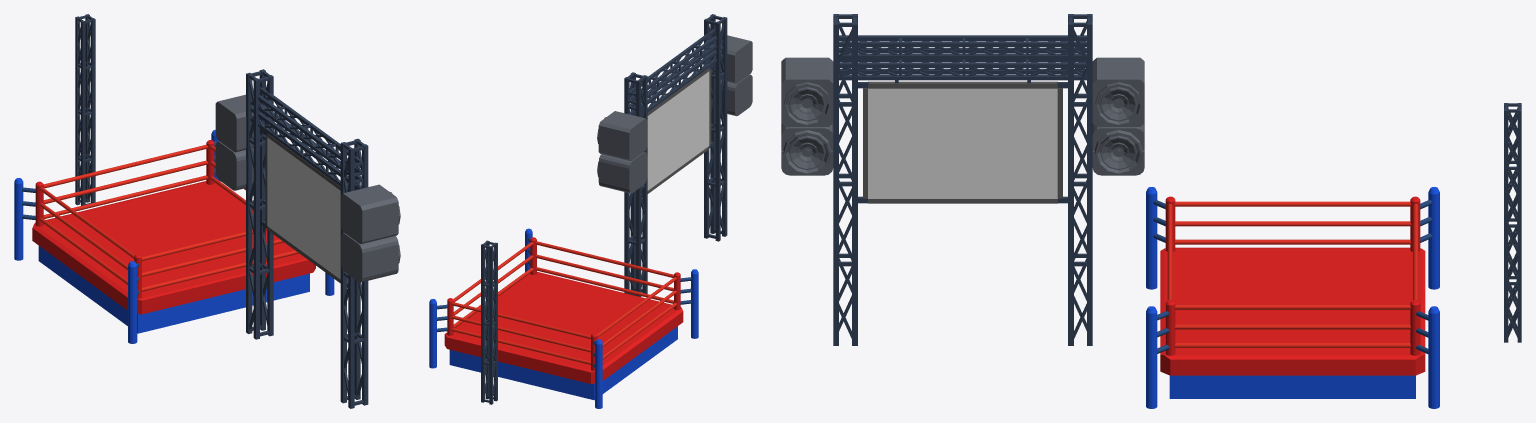
The model's file is arena2 and screen.fbx.
The picture shows the model from 3 angles, left to right: view 1: azimuth 30°, elevation 25°; view 2: azimuth 150°, elevation 25°; view 3: azimuth 270°, elevation 25°; orthographic projection. The views are drawn at different scales.
Parts seen in each view (by area): view 1: Cube, Cube.007, microphone, tv screen, Cylinder.008, Cube.001, Cube.012, Cube.009, Cylinder, Cube.010, border, Cylinder.001; view 2: Cube, Cube.007, microphone, Cylinder.008, tv screen, Cube.001, Cube.012, Cylinder, Cube.009, Cube.010, Cylinder.001, border (+1 smaller); view 3: Cube, tv screen, Cube.007, microphone, Cylinder.008, Cube.001, Cube.009, Cube.010, Cylinder, Cube.012, border, Cylinder.001 (+1 smaller).
Part boxes in pixels (<box>): Cube: <box>32,181,315,314</box>; Cube.007: <box>246,69,368,408</box>; microphone: <box>215,94,400,282</box>; tv screen: <box>267,137,340,279</box>; Cylinder.008: <box>39,144,298,291</box>; Cube.001: <box>38,246,309,333</box>; Cube.012: <box>75,14,95,205</box>; Cube.009: <box>250,87,363,176</box>; Cylinder: <box>14,130,334,343</box>; Cube.010: <box>250,104,363,191</box>; border: <box>265,133,348,283</box>; Cylinder.001: <box>35,140,214,298</box>; Cube: <box>444,272,683,383</box>; Cube.007: <box>624,14,727,296</box>; microphone: <box>597,35,752,193</box>; Cylinder.008: <box>451,241,676,364</box>; tv screen: <box>647,71,709,190</box>; Cube.001: <box>449,326,677,400</box>; Cube.012: <box>481,240,497,404</box>; Cylinder: <box>429,228,698,408</box>; Cube.009: <box>628,29,723,105</box>; Cube.010: <box>628,44,723,116</box>; Cylinder.001: <box>447,237,680,370</box>; border: <box>641,67,711,193</box>; Cube: <box>1160,247,1425,375</box>; tv screen: <box>868,88,1057,198</box>; Cube.007: <box>833,14,1092,345</box>; microphone: <box>781,57,1144,175</box>; Cylinder.008: <box>1167,201,1418,347</box>; Cube.001: <box>1169,375,1415,398</box>; Cube.009: <box>839,35,1086,59</box>; Cube.010: <box>839,59,1086,80</box>; Cylinder: <box>1146,187,1439,408</box>; Cube.012: <box>1504,103,1521,342</box>; border: <box>863,81,1062,203</box>; Cylinder.001: <box>1165,196,1420,355</box>.
Bounding box in the file's own units: 3007 × 3699 × 7578.
